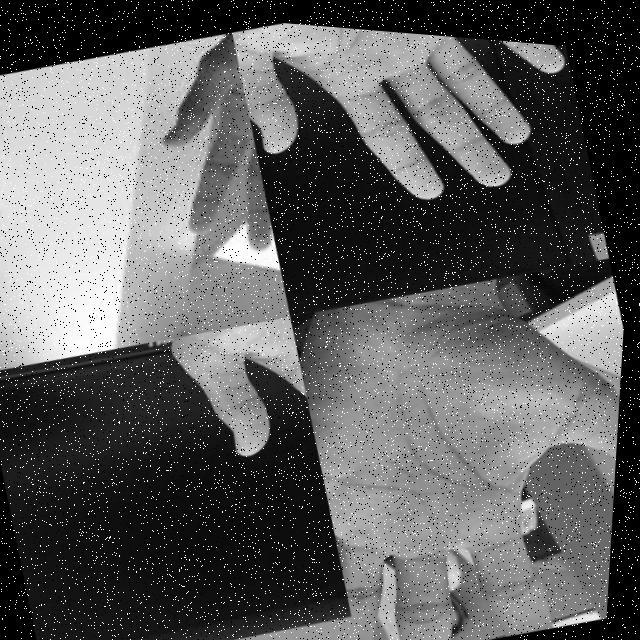no-gloves: (276, 226, 630, 640), (221, 15, 597, 247), (108, 299, 344, 553), (114, 21, 288, 274)
